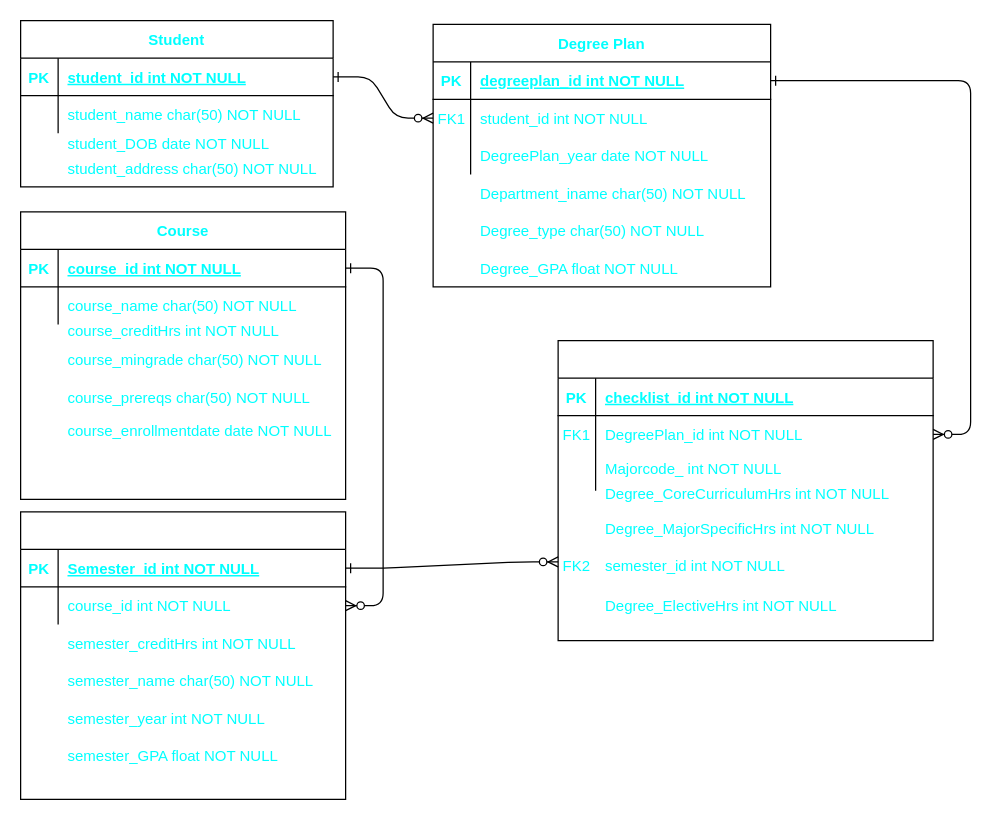
This 991x820 diagram has some shape labels left out. The box of each missing label's shape, as (x1, y1, x2, y2) in pixels:
Degree Checklist: (557, 339, 933, 641)
Semester Plan: (19, 511, 346, 799)
